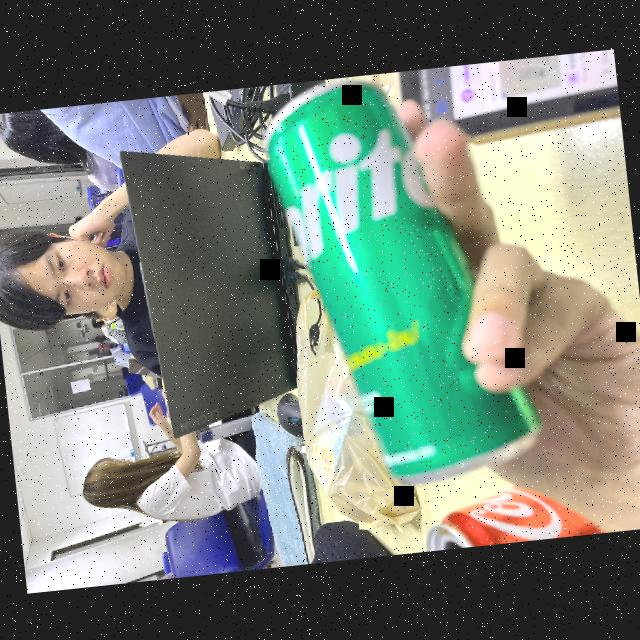can: (257, 70, 534, 496), (417, 474, 599, 550)
